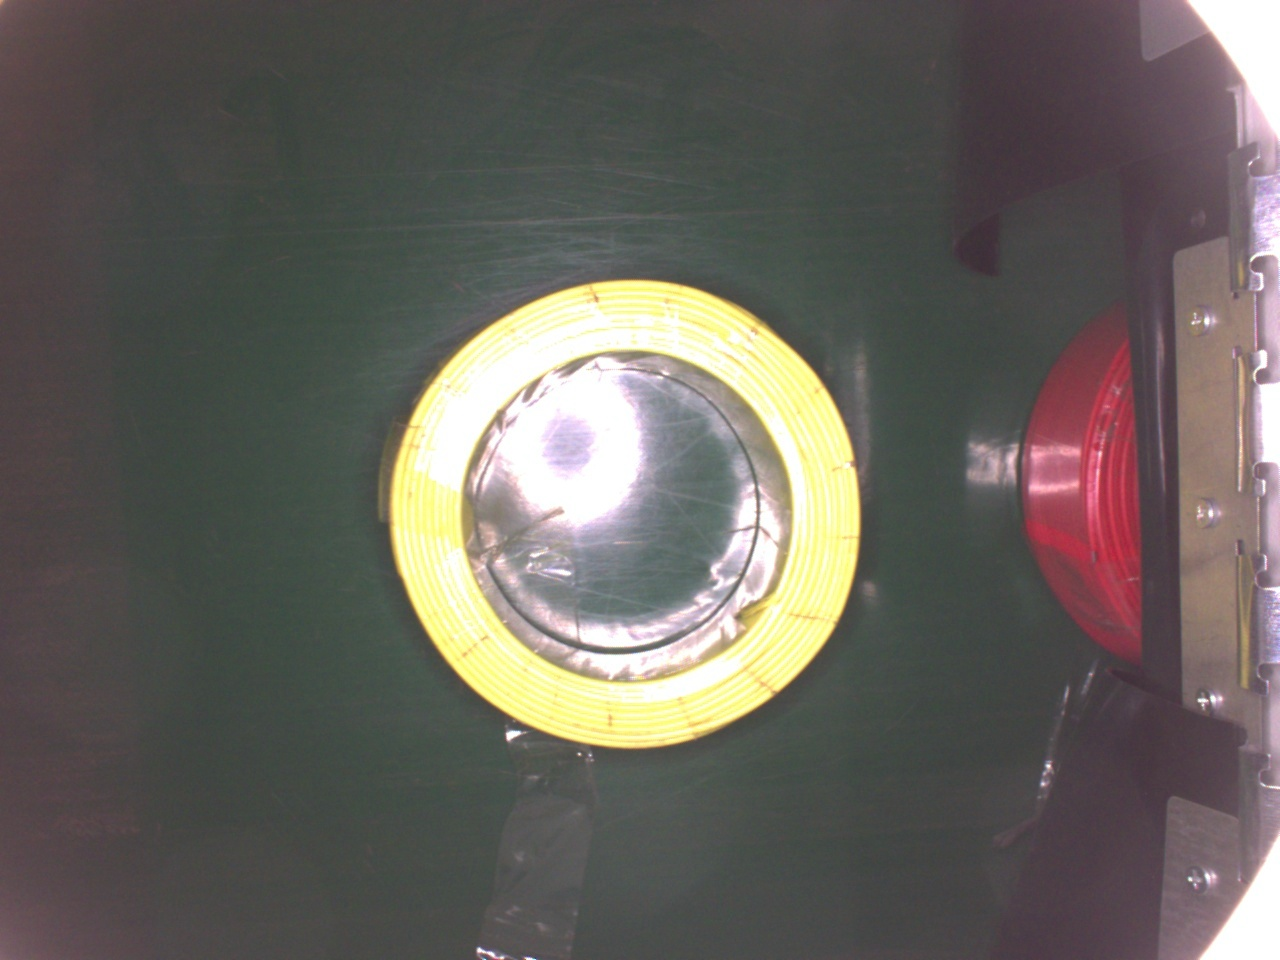red: (1016, 293, 1144, 667)
yellow: (384, 269, 875, 760)
